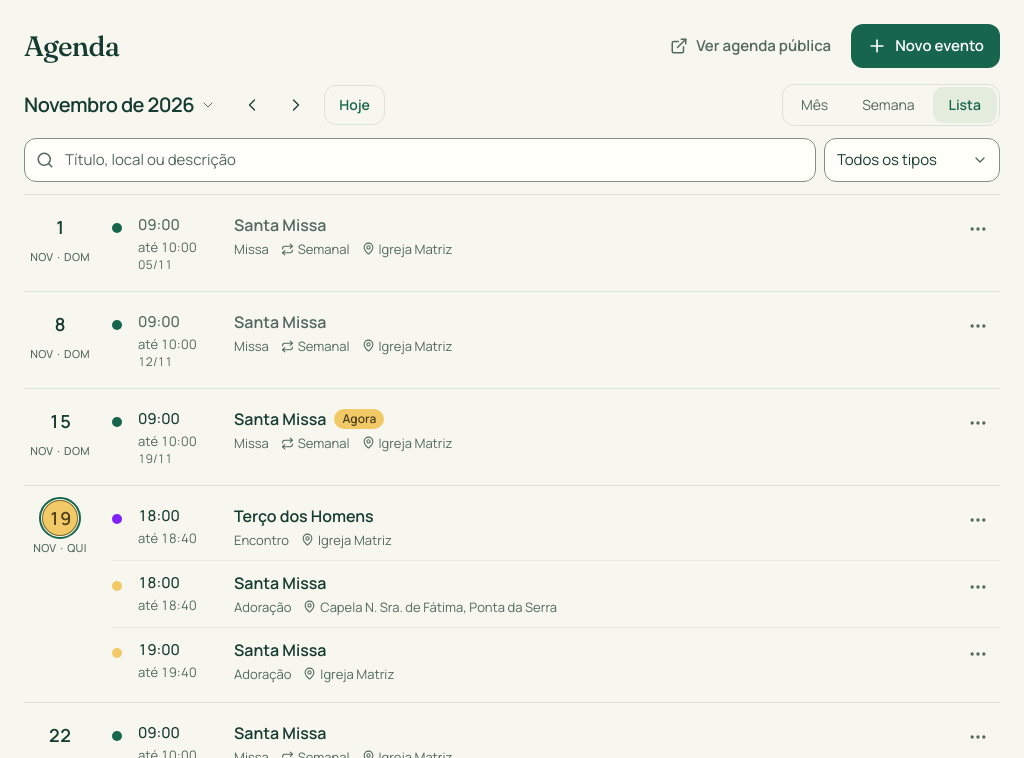
Scenario: AdminCalendarPage › atualiza a mesma notificação após excluir
The width and height of the screenshot is (1024, 758).
Click the button named "Mais ações: Terço dos Homens".
click(978, 520)  # box [956,498,1000,542]
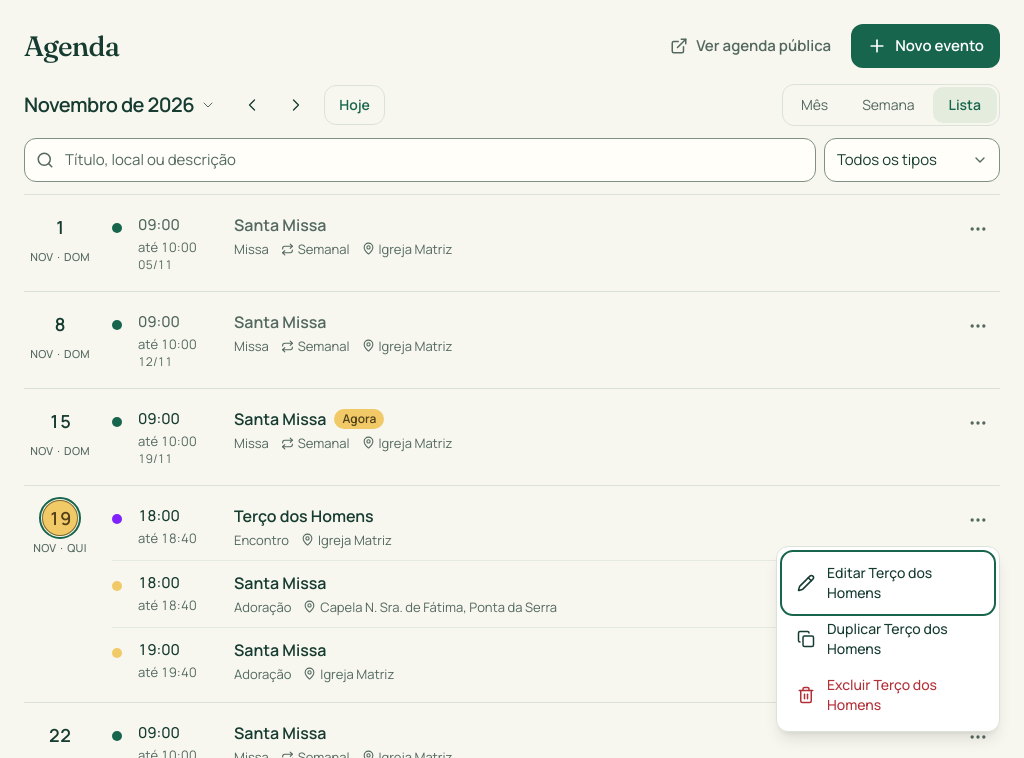
Click the menu item "Excluir Terço dos Homens".
click(888, 695)  # box [785,667,991,723]
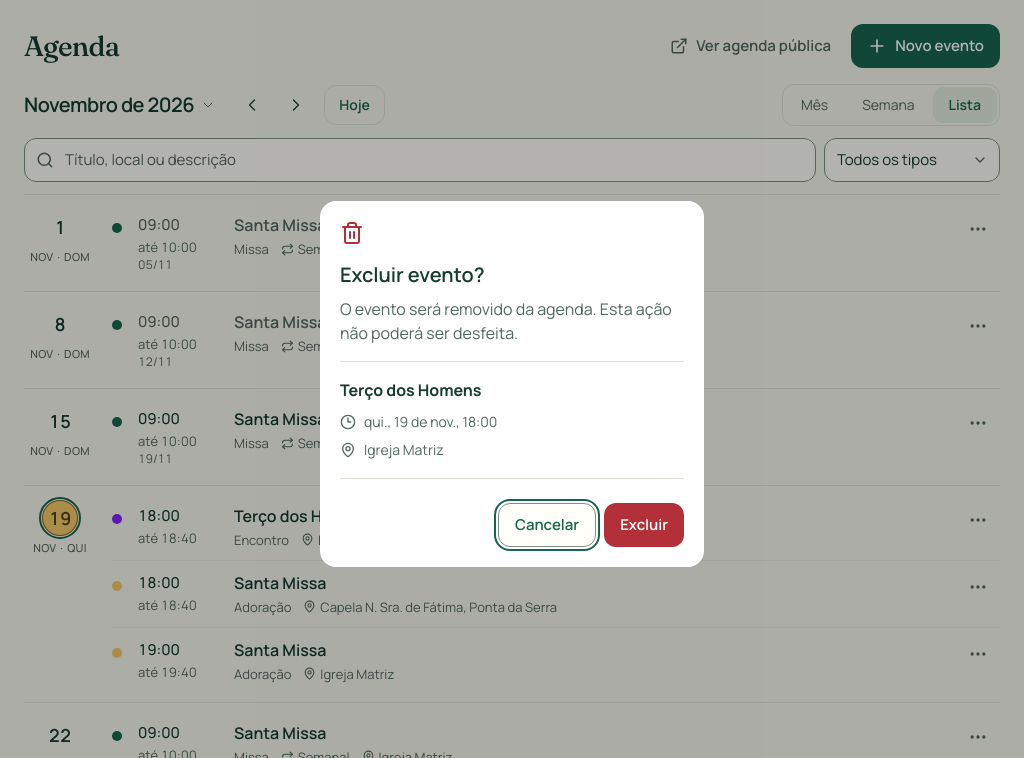
Click the button "Excluir".
click(644, 525)  # box [604,503,684,547]
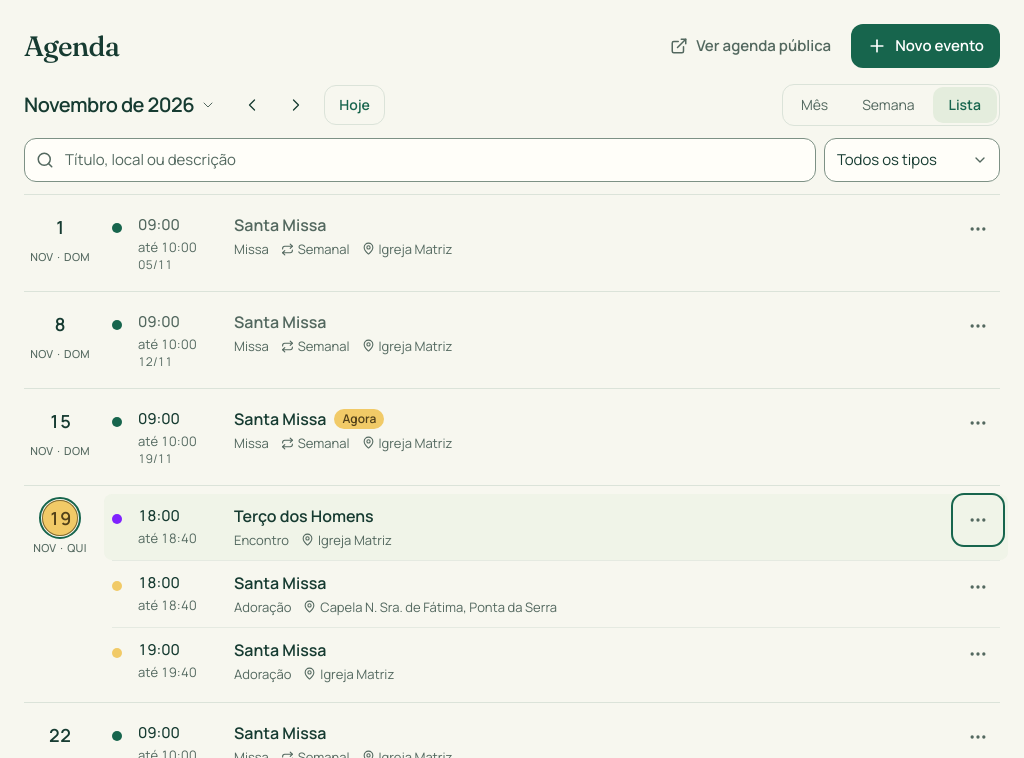
Now the dialog is gone
